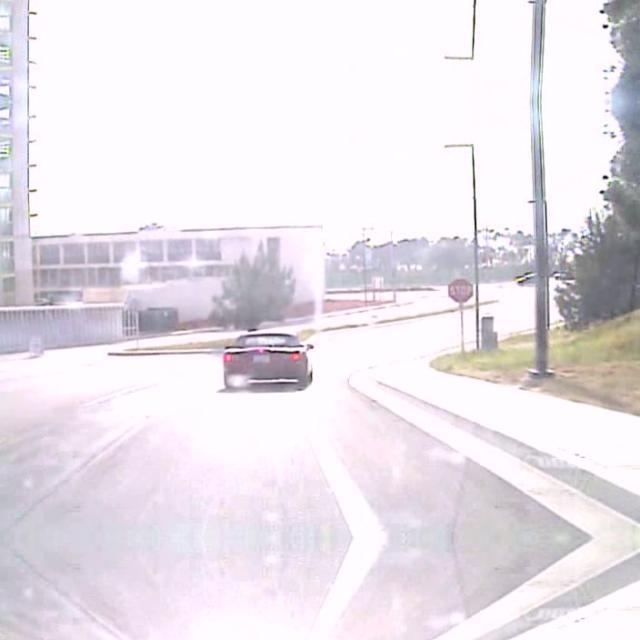stop: (447, 276, 473, 302)
